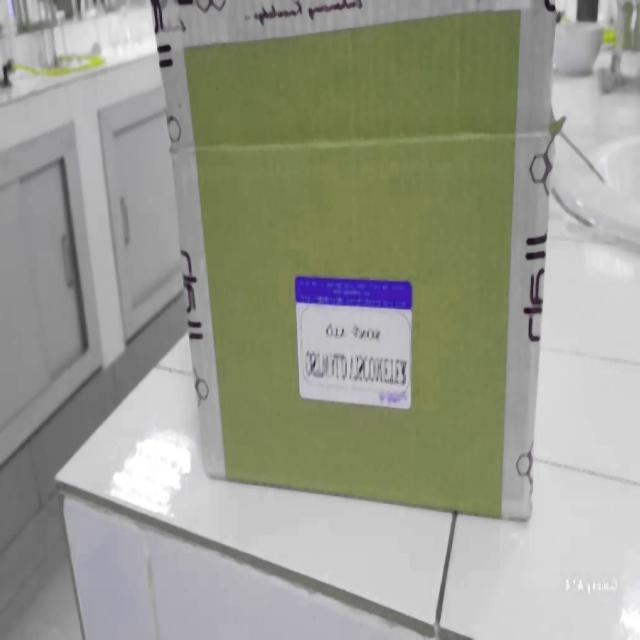Ostwald Viscometer: (194, 211, 534, 506)
